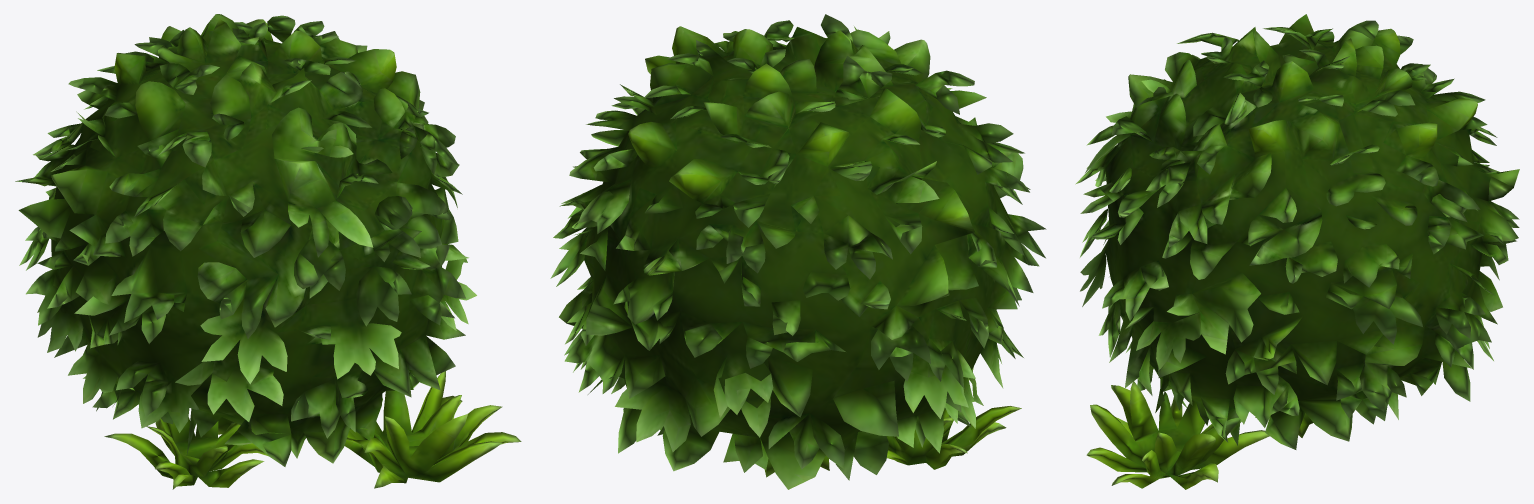
Rendered from prop_bush.glb.
3 views of the same model, side by side, from view 1: azimuth 30°, elevation 25°; view 2: azimuth 150°, elevation 25°; view 3: azimuth 270°, elevation 25° (orthographic). The views are drawn at different scales.
Visible parts, largest first — view 1: tripo_node_ed7426ae-33e4-4351-8e20-916f90b90baa; view 2: tripo_node_ed7426ae-33e4-4351-8e20-916f90b90baa; view 3: tripo_node_ed7426ae-33e4-4351-8e20-916f90b90baa.
Boxes of the visible parts, box(x1,y1,x2,y2) form: tripo_node_ed7426ae-33e4-4351-8e20-916f90b90baa: box(15, 14, 521, 489); tripo_node_ed7426ae-33e4-4351-8e20-916f90b90baa: box(550, 14, 1046, 489); tripo_node_ed7426ae-33e4-4351-8e20-916f90b90baa: box(1075, 14, 1519, 489).
Size of the model in its own units: 0.959 by 0.9629 by 0.998.
Materials: 1 (1 with a texture image).
